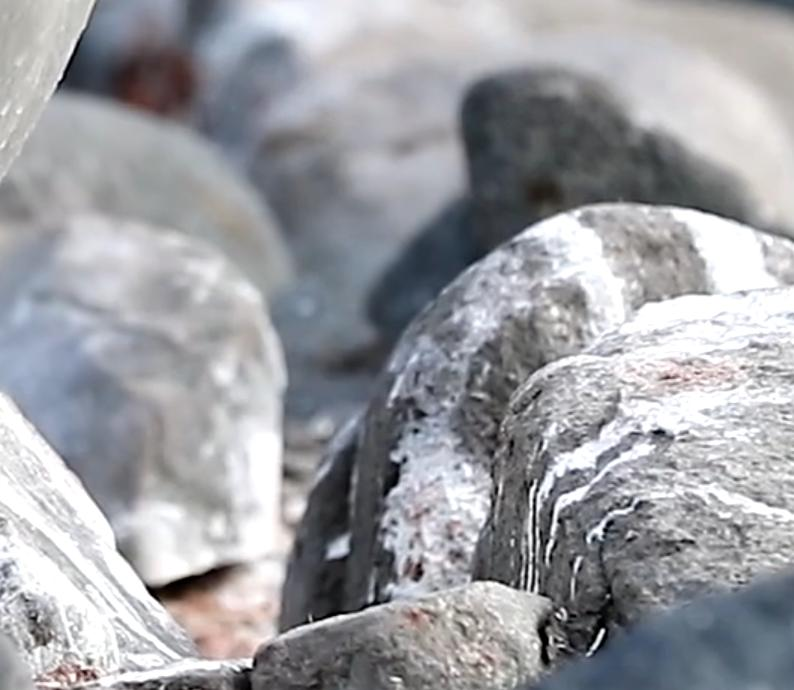Chinstrap Penguin: (0, 0, 480, 588)
